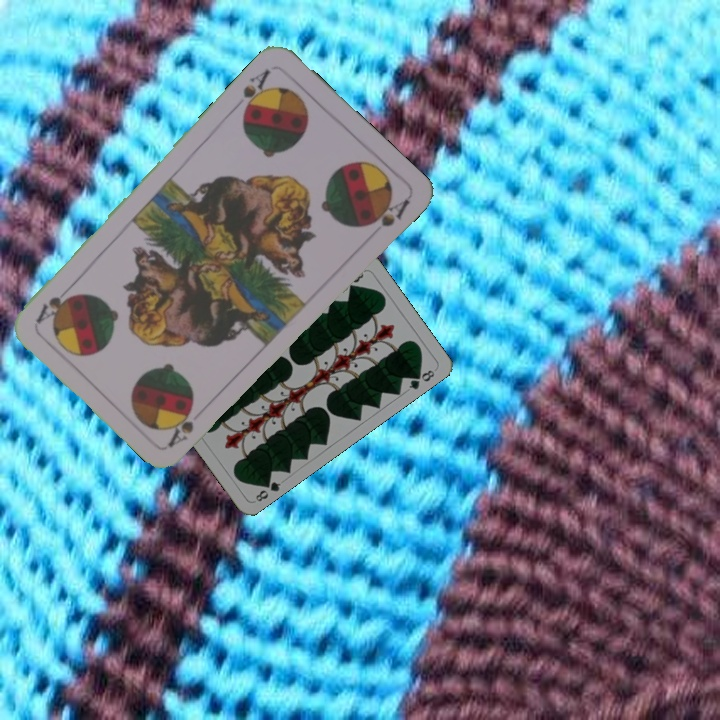G8: (251, 474, 284, 504)
SA: (238, 65, 273, 118), (164, 406, 196, 450)
